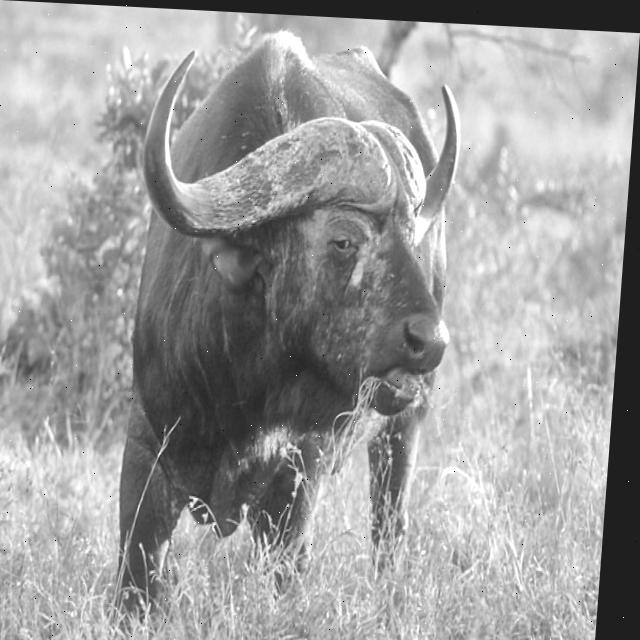Buffalo: (106, 25, 475, 640)
